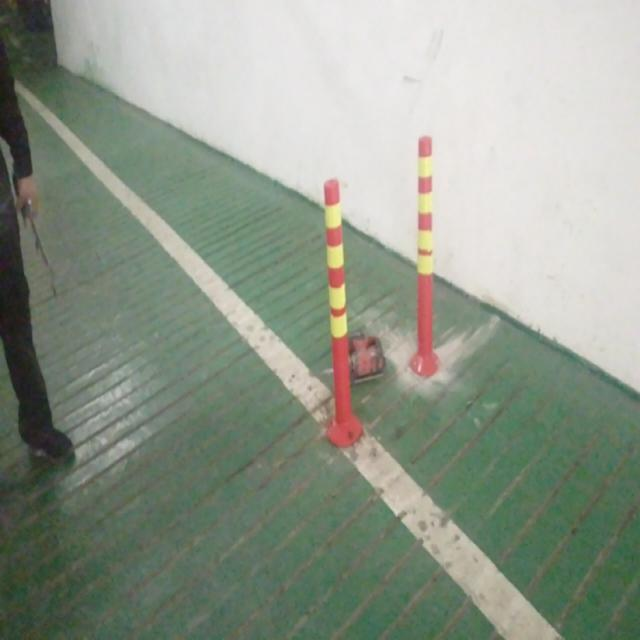warning_column: (318, 178, 364, 445), (406, 136, 442, 378)
